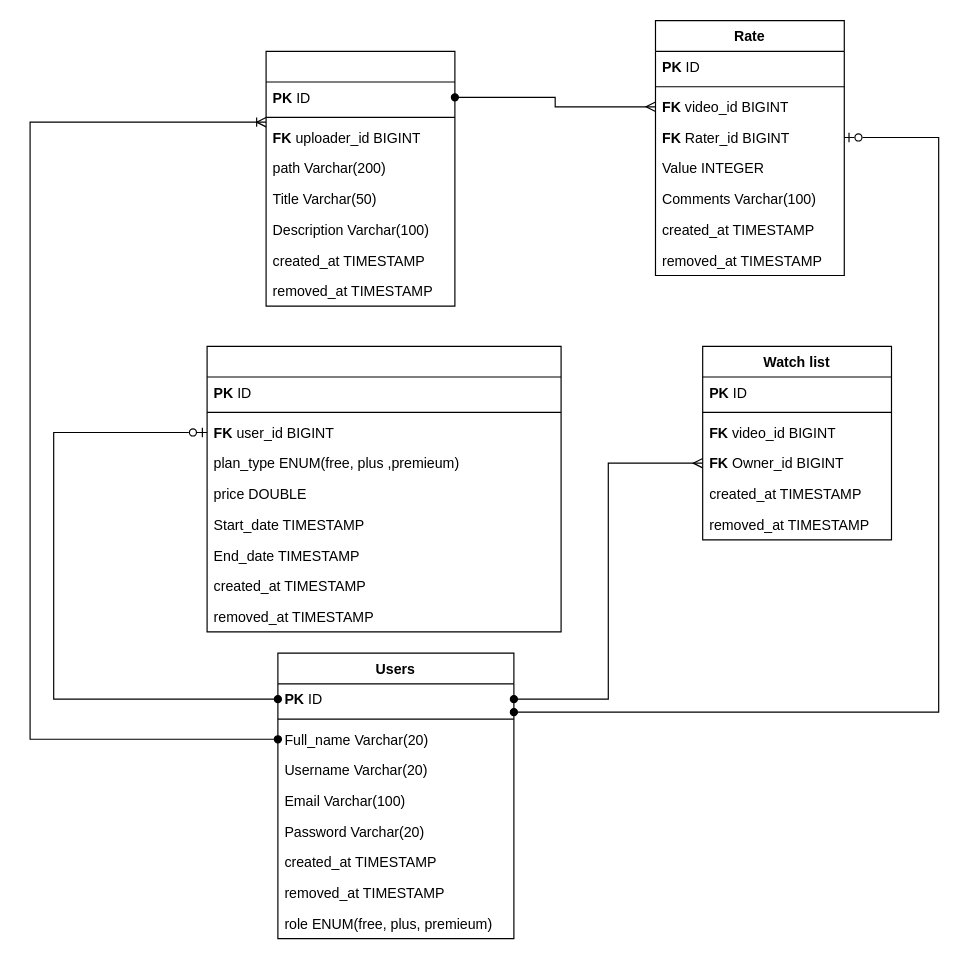
This 970x963 diagram has some shape labels left out. The box of each missing label's shape, as (x1, y1, x2, y2) in pixels:
Subscription: (206, 345, 561, 632)
Video: (265, 50, 455, 306)
